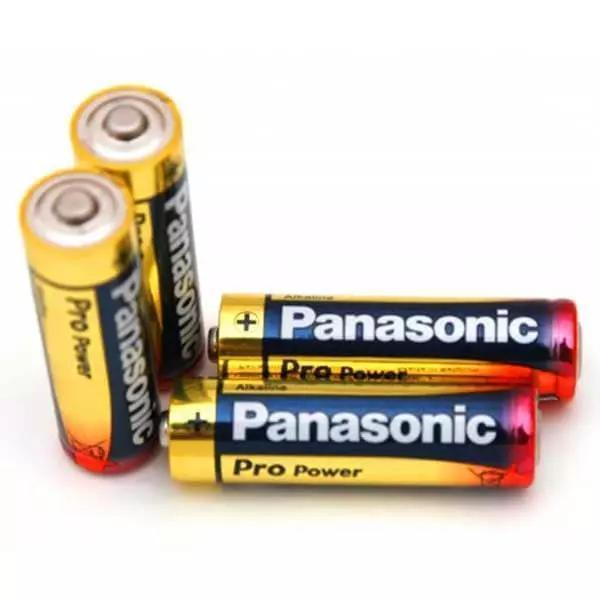AA: (155, 373, 543, 493), (16, 165, 163, 479), (201, 290, 586, 408)
